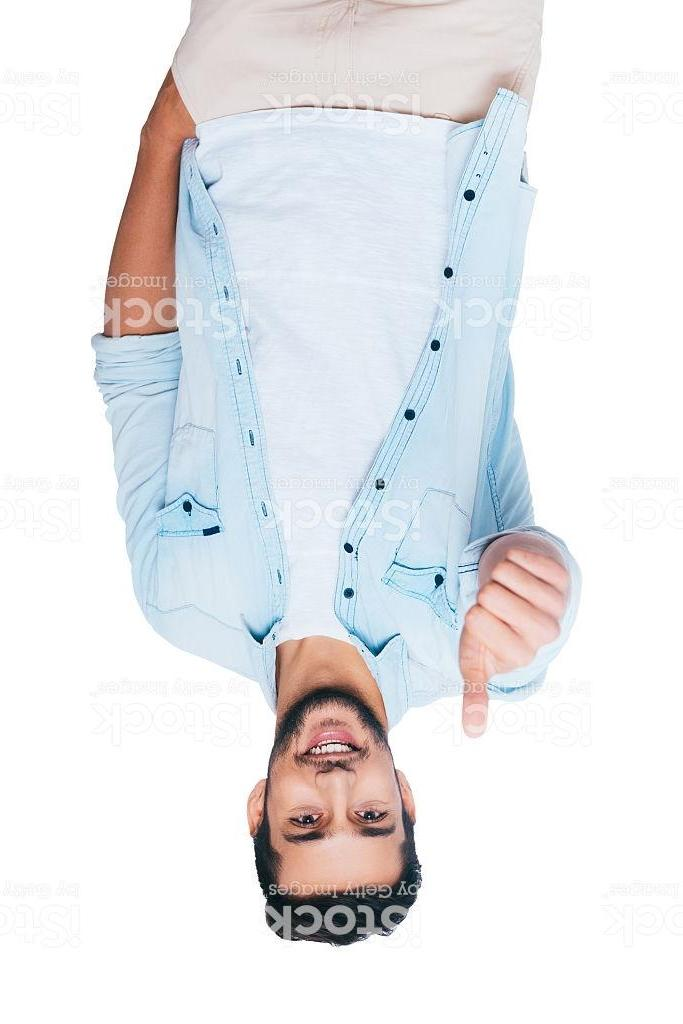thumbsdown: (459, 542, 574, 740)
